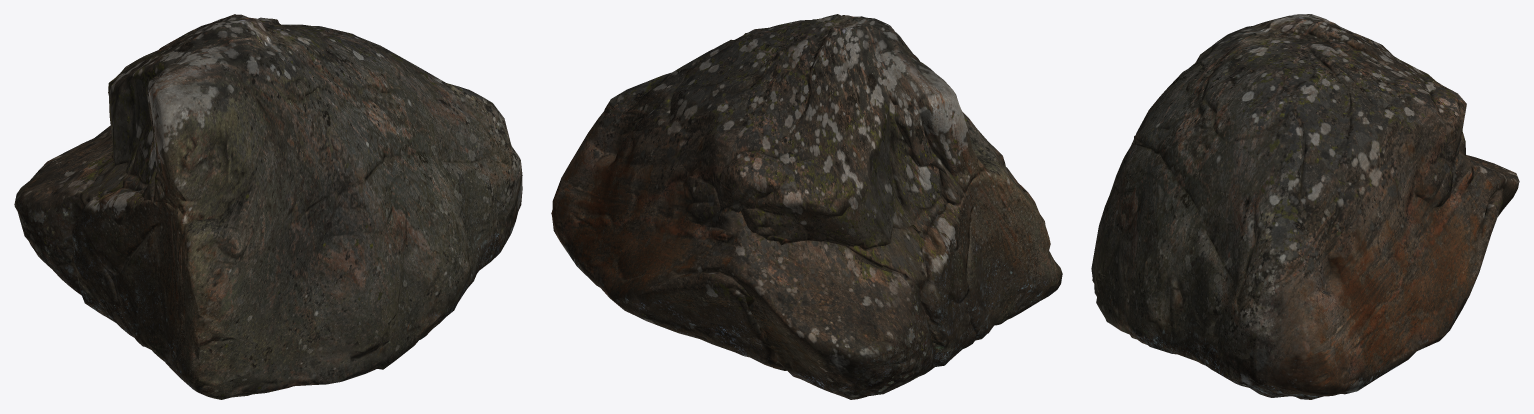
The model's file is rock.glb.
3 renders of one model, left to right at view 1: azimuth 30°, elevation 25°; view 2: azimuth 150°, elevation 25°; view 3: azimuth 270°, elevation 25°, orthographic. The views are drawn at different scales.
Visible parts, largest first — view 1: S_Nordic_Beach_Boulder_vebhcduva_high_Var1; view 2: S_Nordic_Beach_Boulder_vebhcduva_high_Var1; view 3: S_Nordic_Beach_Boulder_vebhcduva_high_Var1.
Part boxes in pixels (x1,y1,x2,y2): S_Nordic_Beach_Boulder_vebhcduva_high_Var1: (14,14,522,399); S_Nordic_Beach_Boulder_vebhcduva_high_Var1: (551,14,1062,399); S_Nordic_Beach_Boulder_vebhcduva_high_Var1: (1091,14,1519,399).
Size of the model in its own units: 1.67 by 1.13 by 1.51.
1 material, 1 textured.
